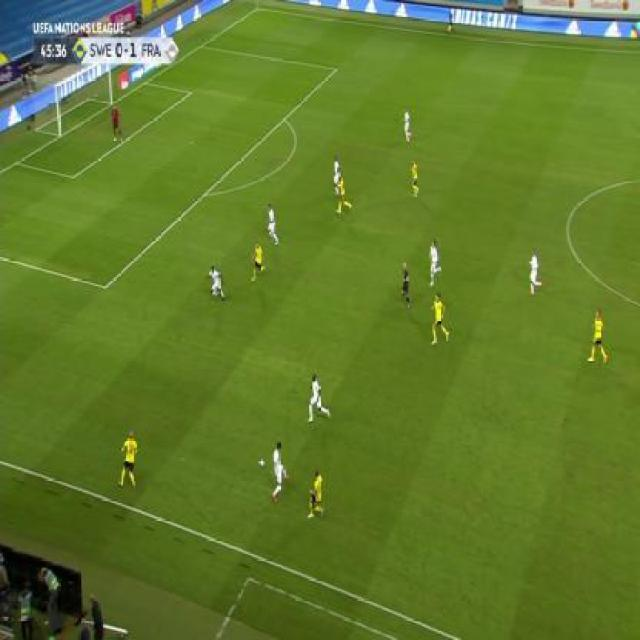ball: (257, 456, 266, 470)
player: (305, 372, 330, 426), (119, 429, 139, 494), (587, 306, 609, 365), (269, 440, 289, 502), (428, 294, 450, 348), (307, 468, 327, 522), (528, 249, 544, 300), (428, 240, 444, 289), (206, 263, 225, 302), (249, 240, 266, 282), (337, 175, 353, 217), (266, 202, 280, 247), (400, 260, 411, 309), (111, 104, 124, 143), (409, 157, 420, 199), (402, 106, 413, 145), (332, 154, 340, 194), (447, 9, 456, 35)
